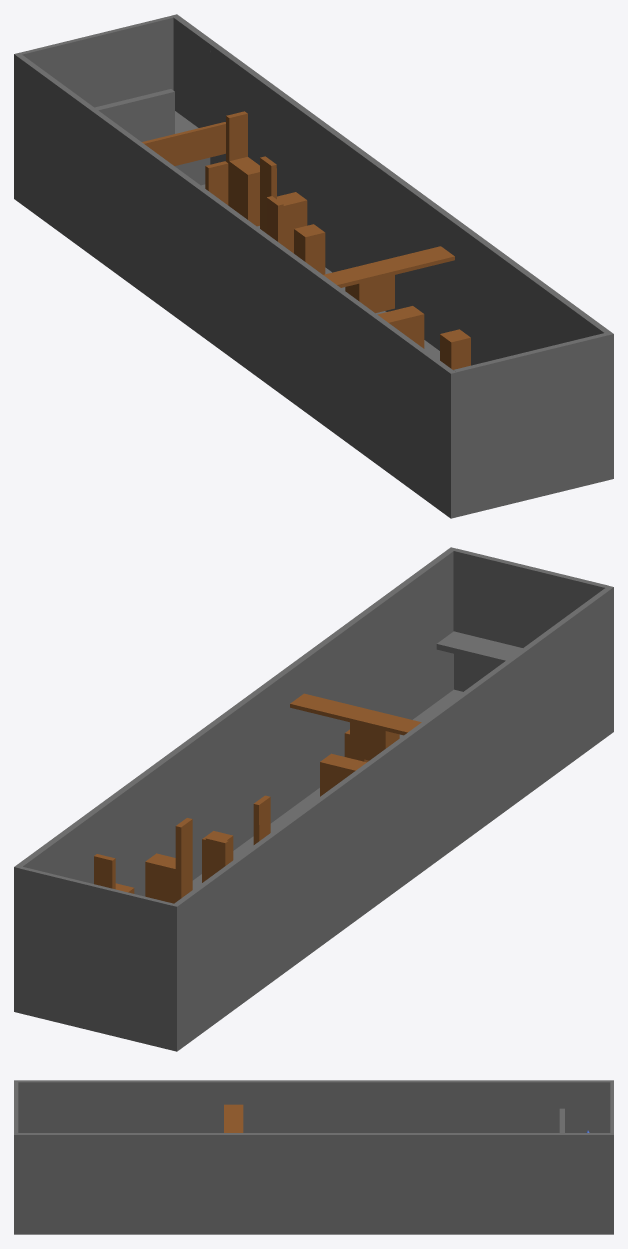
The model's file is ParkourLevel3.fbx.
3 renders of one model, top to bottom at view 1: azimuth 30°, elevation 25°; view 2: azimuth 150°, elevation 25°; view 3: azimuth 270°, elevation 25°, orthographic. The views are drawn at different scales.
Parts seen in each view (by area): view 1: Cube, Cube.010, Cube.017, Cube.015, Cube.014, Cube.013, Cube.006, Cube.009, Cube.018, Cube.008; view 2: Cube, Cube.010, Cube.014, Cube.009, Cube.018, Cube.017, Cube.008; view 3: Cube, Cube.010.
Part boxes in pixels (<box>): Cube: <box>14,14,613,518</box>; Cube.010: <box>323,246,454,313</box>; Cube.017: <box>226,111,259,226</box>; Cube.015: <box>142,122,225,166</box>; Cube.014: <box>260,156,307,253</box>; Cube.013: <box>294,224,325,274</box>; Cube.006: <box>440,329,470,369</box>; Cube.009: <box>377,306,424,348</box>; Cube.018: <box>205,161,228,204</box>; Cube.008: <box>266,196,283,245</box>; Cube: <box>14,547,613,1051</box>; Cube.010: <box>290,693,421,760</box>; Cube.014: <box>145,818,192,903</box>; Cube.009: <box>320,753,366,796</box>; Cube.018: <box>205,836,228,879</box>; Cube.017: <box>94,854,134,893</box>; Cube.008: <box>253,795,270,844</box>; Cube: <box>14,1080,613,1234</box>; Cube.010: <box>224,1104,243,1132</box>.
Bounding box in the file's own units: 1652 × 1404 × 7666.
